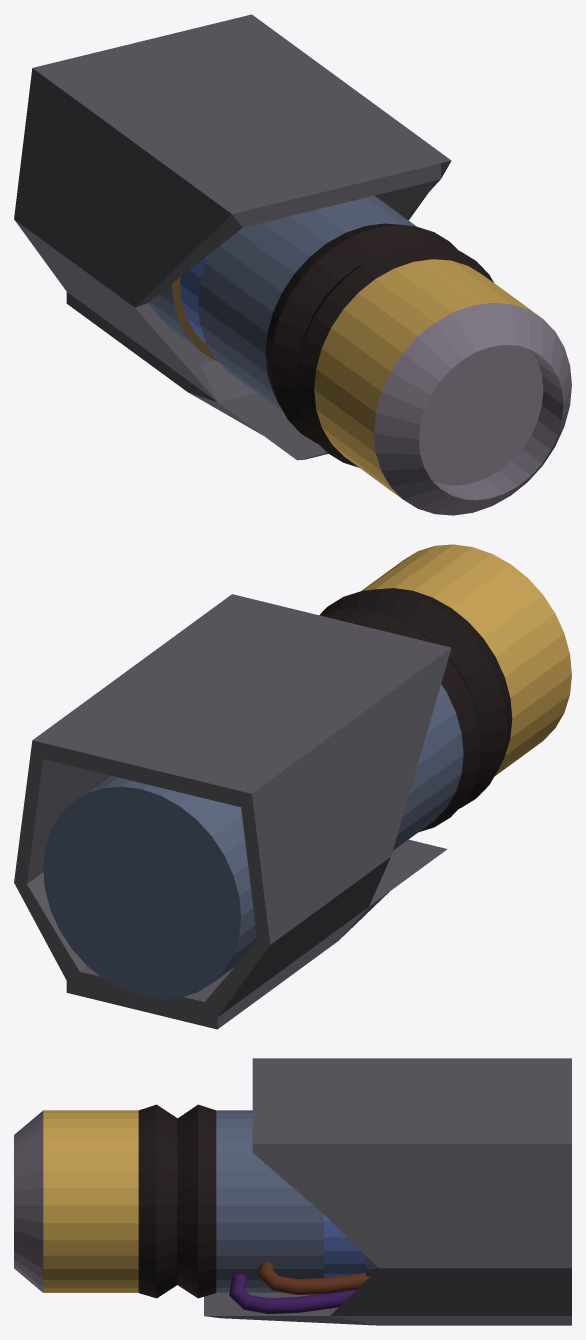
File: arm_cannon_v2.glb
The picture shows the model from 3 angles, top to bottom: view 1: azimuth 30°, elevation 25°; view 2: azimuth 150°, elevation 25°; view 3: azimuth 270°, elevation 25°; orthographic projection. The views are drawn at different scales.
Parts seen in each view (by area): view 1: Cube, Cylinder; view 2: Cube, Cylinder; view 3: Cube, Cylinder, wire1, wire1.001.
Boxes of the visible parts, left/top/right/bottom form: Cube: left=14, top=14, right=451, bottom=460; Cylinder: left=148, top=195, right=571, bottom=515; Cube: left=14, top=594, right=451, bottom=1029; Cylinder: left=43, top=544, right=571, bottom=999; Cube: left=204, top=1058, right=571, bottom=1325; Cylinder: left=14, top=1104, right=378, bottom=1298; wire1: left=229, top=1274, right=356, bottom=1313; wire1.001: left=257, top=1262, right=369, bottom=1294.
Size of the model in its own units: 2.59 by 2.35 by 6.11.
4 materials, 1 textured.
